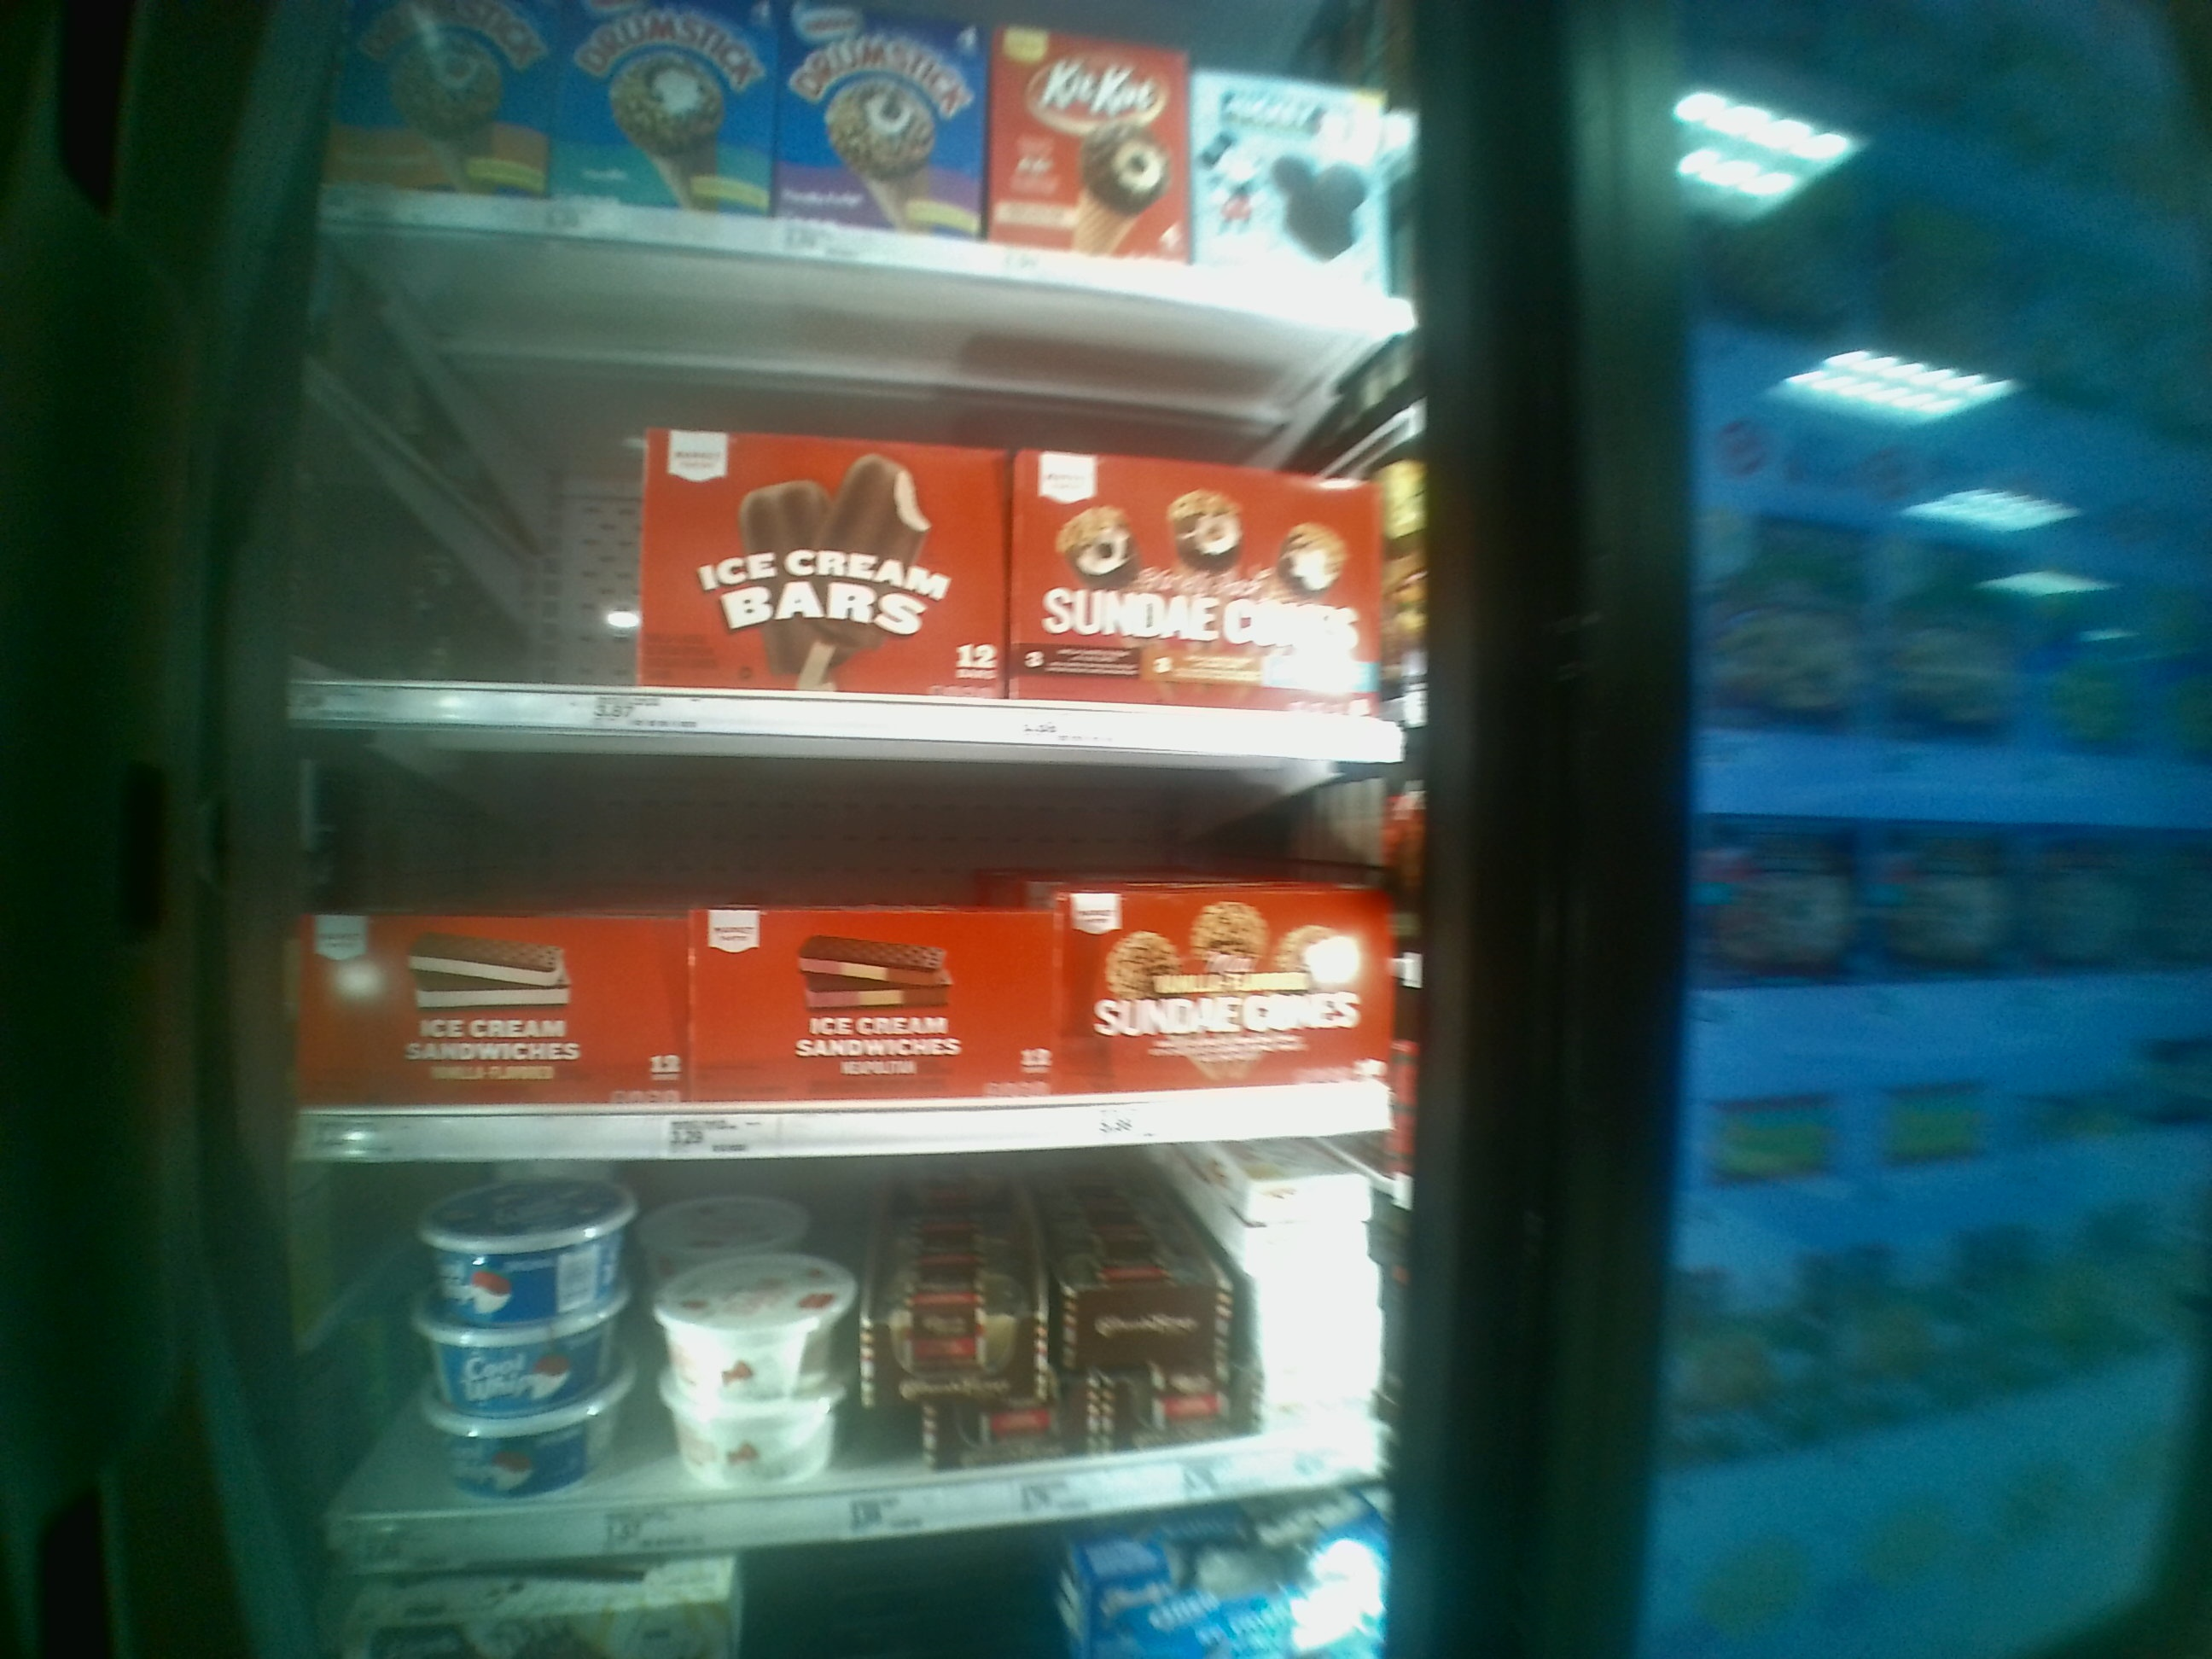frozen-food-shelf: (258, 324, 1451, 767), (256, 767, 1489, 1166)
